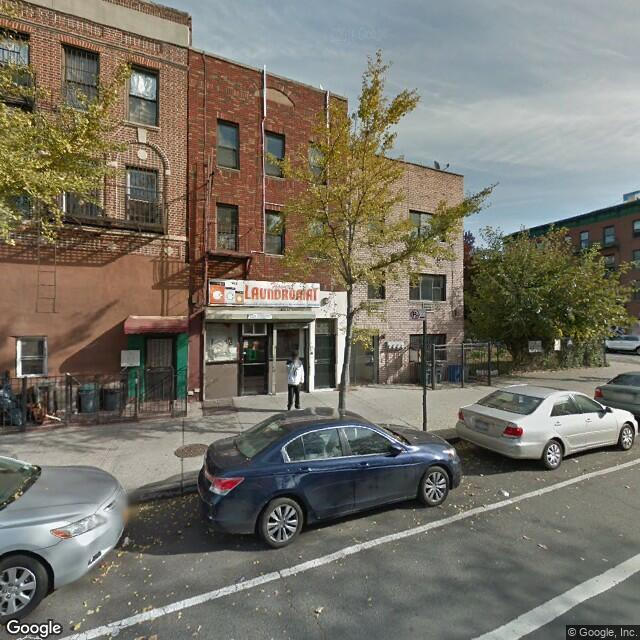litter: (492, 488, 521, 499)
